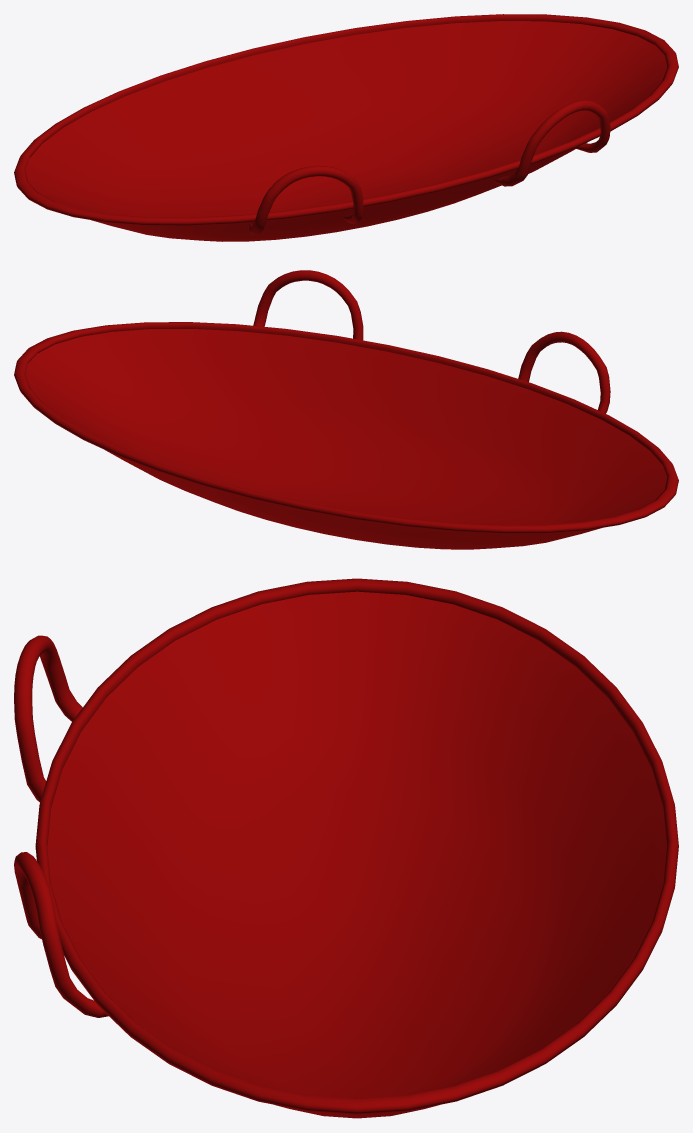
Rendered from SM_Whinnowing_Basket_B.gltf.
3 renders of one model, top to bottom at view 1: azimuth 30°, elevation 25°; view 2: azimuth 150°, elevation 25°; view 3: azimuth 270°, elevation 25°, orthographic. The views are drawn at different scales.
Parts seen in each view (by area): view 1: SM_Whinnowing_Basket_B; view 2: SM_Whinnowing_Basket_B; view 3: SM_Whinnowing_Basket_B.
Part boxes in pixels (bbox=[...]): SM_Whinnowing_Basket_B: bbox=[14, 14, 678, 241]; SM_Whinnowing_Basket_B: bbox=[14, 270, 678, 549]; SM_Whinnowing_Basket_B: bbox=[14, 578, 678, 1118].
Size of the model in its own units: 1.26 by 0.2547 by 0.666.
